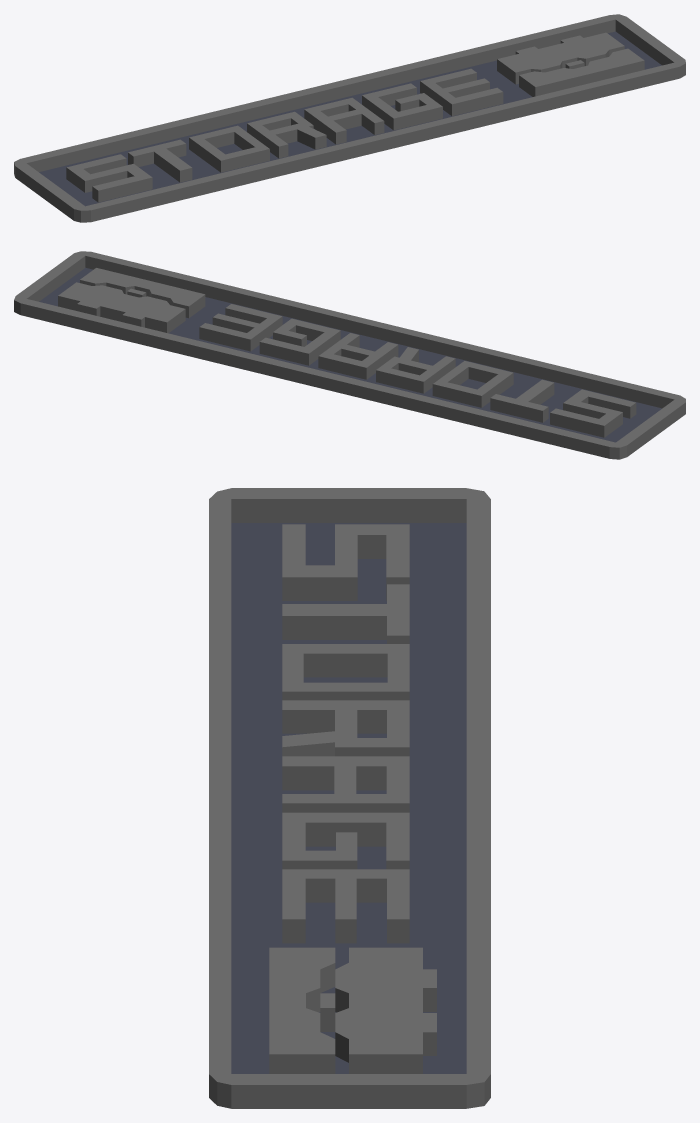
Rendered from mdlStorageSign.fbx.
3 renders of one model, top to bottom at view 1: azimuth 30°, elevation 25°; view 2: azimuth 150°, elevation 25°; view 3: azimuth 270°, elevation 25°, orthographic. The views are drawn at different scales.
Parts seen in each view (by area): view 1: StorageSign; view 2: StorageSign; view 3: StorageSign.
Part boxes in pixels (x1,y1,x2,y2): StorageSign: (14, 14, 685, 222); StorageSign: (14, 251, 685, 459); StorageSign: (209, 488, 490, 1108).
Bounding box in the file's own units: 5.9 × 0.1099 × 1.18.
1 material, 1 textured.
